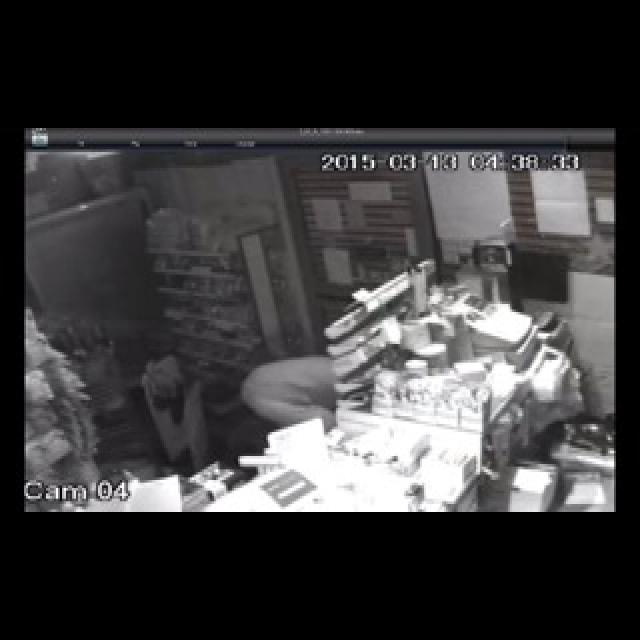thief: (243, 351, 334, 422)
